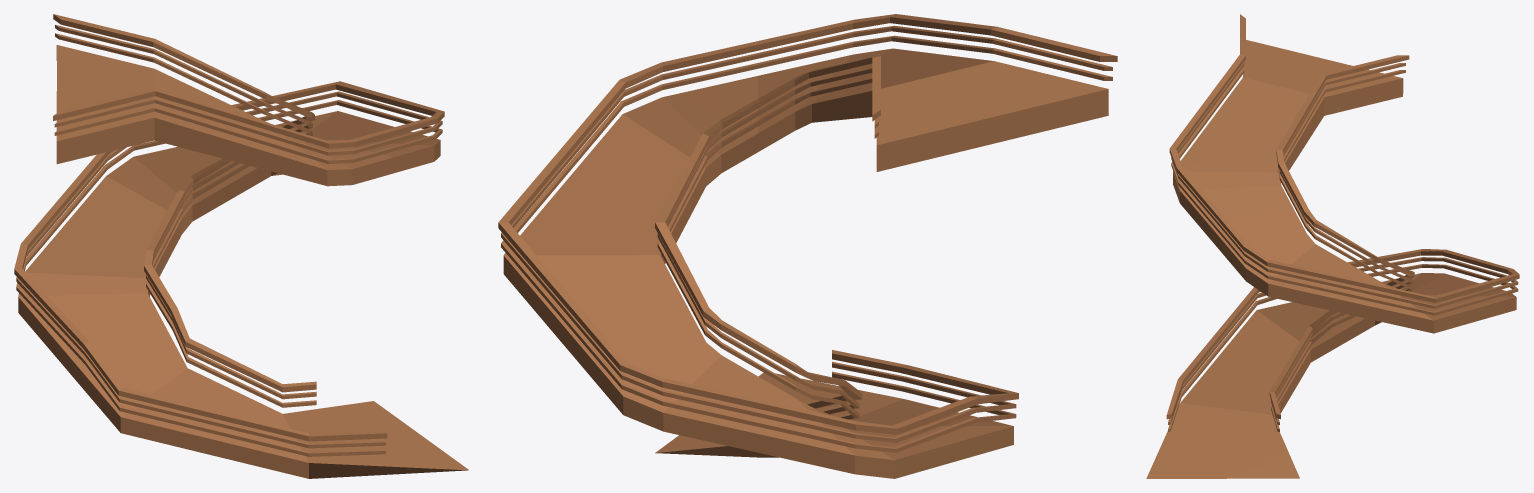
The model's file is lvl1_P_switch3_platform1.1.glb.
The picture shows the model from 3 angles, left to right: view 1: azimuth 30°, elevation 25°; view 2: azimuth 150°, elevation 25°; view 3: azimuth 270°, elevation 25°; orthographic projection. The views are drawn at different scales.
Visible parts, largest first — view 1: lvl1_P_switch3_platform; view 2: lvl1_P_switch3_platform; view 3: lvl1_P_switch3_platform.
Boxes of the visible parts, left/top/right/bottom form: lvl1_P_switch3_platform: left=14, top=14, right=468, bottom=478; lvl1_P_switch3_platform: left=498, top=14, right=1117, bottom=478; lvl1_P_switch3_platform: left=1146, top=14, right=1519, bottom=478.
Bounding box in the file's own units: 12.54 × 11.72 × 12.27.
Materials: 1 (1 with a texture image).
